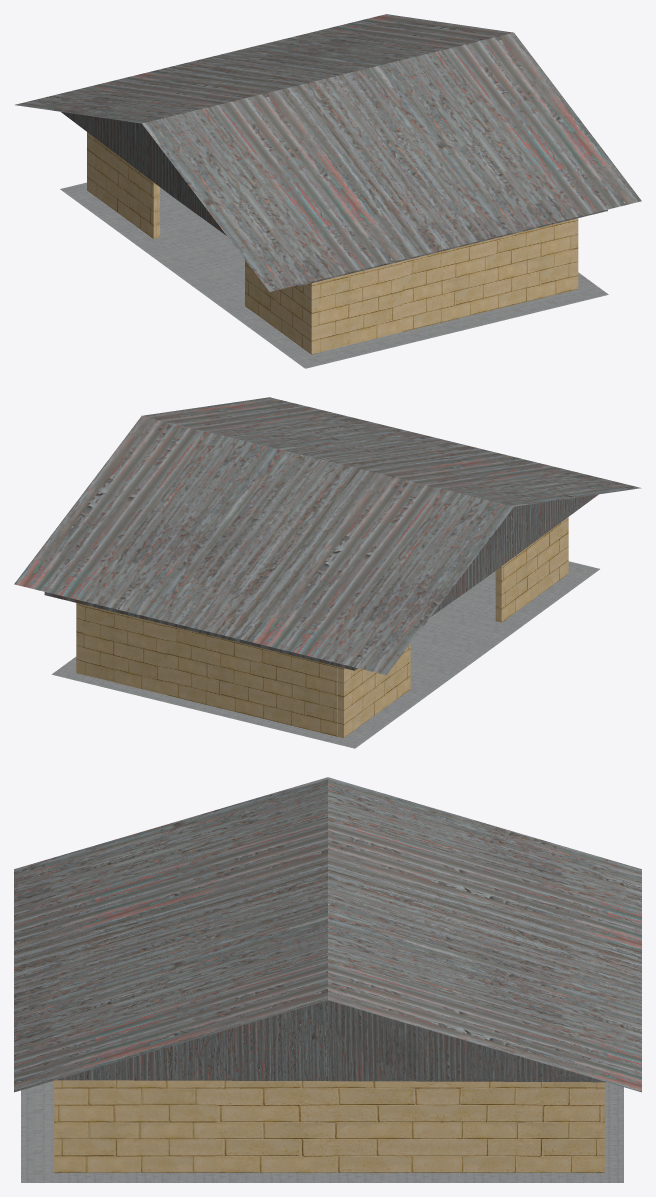
The picture shows the model from 3 angles, top to bottom: view 1: azimuth 30°, elevation 25°; view 2: azimuth 150°, elevation 25°; view 3: azimuth 270°, elevation 25°; orthographic projection. The views are drawn at different scales.
Visible parts, largest first — view 1: Plane.001, Plane.002, Hangar Left Side Wall, Hangar Foundations, Plane, Hangar Left Front Wall, Hangar Right Front Wall; view 2: Plane.002, Plane.001, Hangar Right Side Wall001, Hangar Foundations, Plane, Hangar Right Front Wall, Hangar Left Front Wall; view 3: Plane.001, Plane.002, Plane, Hangar Middle Back Wall, Hangar Left Back Wall, Hangar Right Back Wall, Hangar Foundations.
Boxes of the visible parts, box(x1,y1,x2,y2) form: Plane.001: box(142, 33, 641, 291); Plane.002: box(15, 14, 513, 123); Hangar Left Side Wall: box(317, 219, 572, 352); Hangar Foundations: box(60, 182, 608, 368); Plane: box(61, 112, 607, 286); Hangar Left Front Wall: box(87, 132, 159, 238); Hangar Right Front Wall: box(245, 260, 317, 354); Plane.002: box(14, 416, 513, 674); Plane.001: box(142, 397, 641, 506); Hangar Right Side Wall001: box(82, 604, 337, 736); Hangar Foundations: box(52, 561, 599, 748); Plane: box(44, 494, 598, 670); Hangar Right Front Wall: box(495, 517, 568, 622); Hangar Left Front Wall: box(338, 643, 410, 737); Plane.001: box(14, 777, 327, 1092); Plane.002: box(328, 777, 641, 1092); Plane: box(56, 1000, 606, 1082); Hangar Middle Back Wall: box(215, 1080, 443, 1172); Hangar Left Back Wall: box(440, 1081, 604, 1172); Hangar Right Back Wall: box(54, 1080, 215, 1172); Hangar Foundations: box(21, 1081, 623, 1182).
Bounding box in the file's own units: 18 × 7.54 × 21.4.
Materials: 3 (3 with a texture image).
